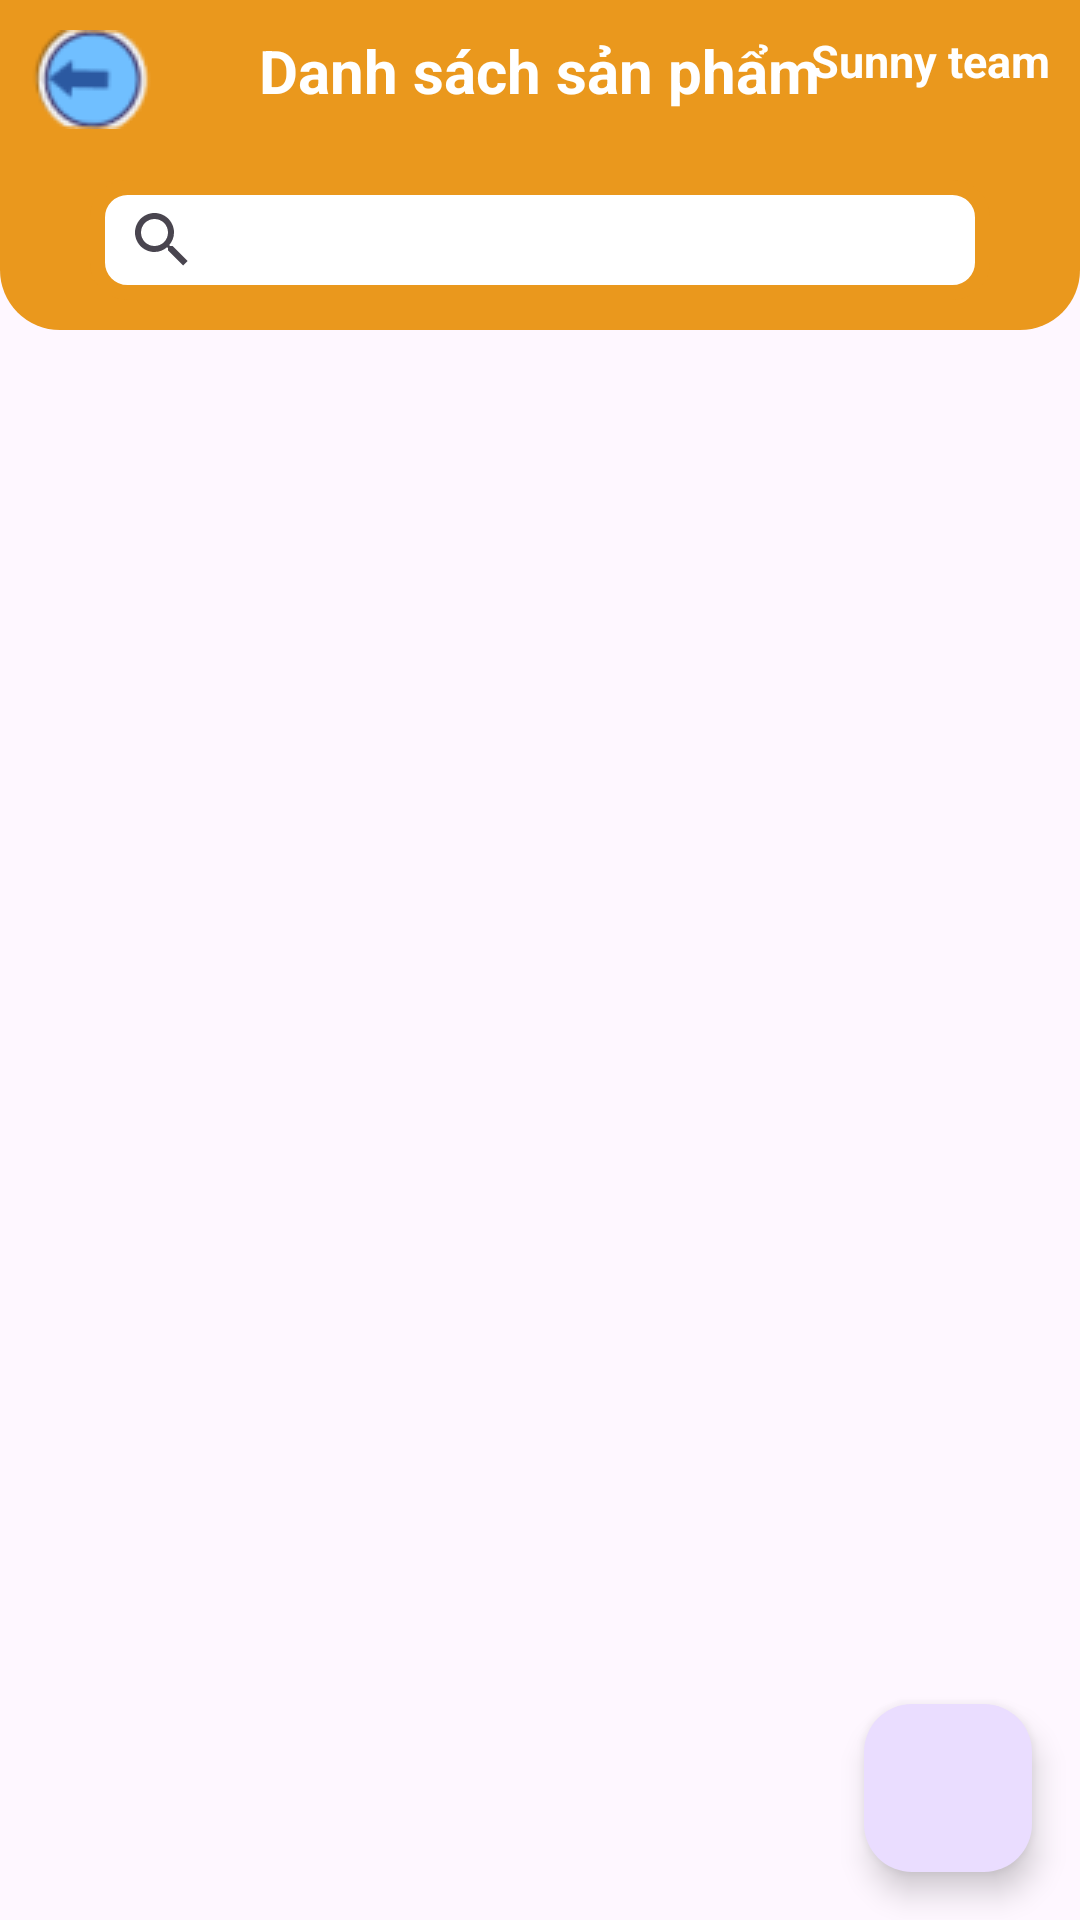

Point at icon controls on the screen. Image size 1080px×1920px, points as (x=x, y=y).
thoat: (x=91, y=79)
